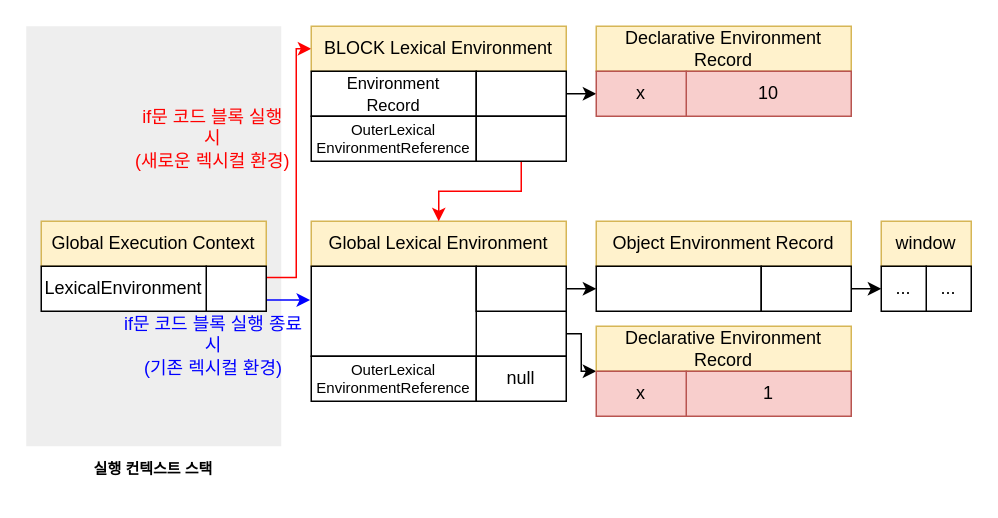
The diagram is 998 pixels wide and 518 high, and some of its shapes have lost their labels. The box of each missing label's shape, as (x1, y1, x2, y2) in pixels:
BindingObject: (595, 265, 761, 311)
GlobalEnvironment Record: (310, 265, 476, 356)
